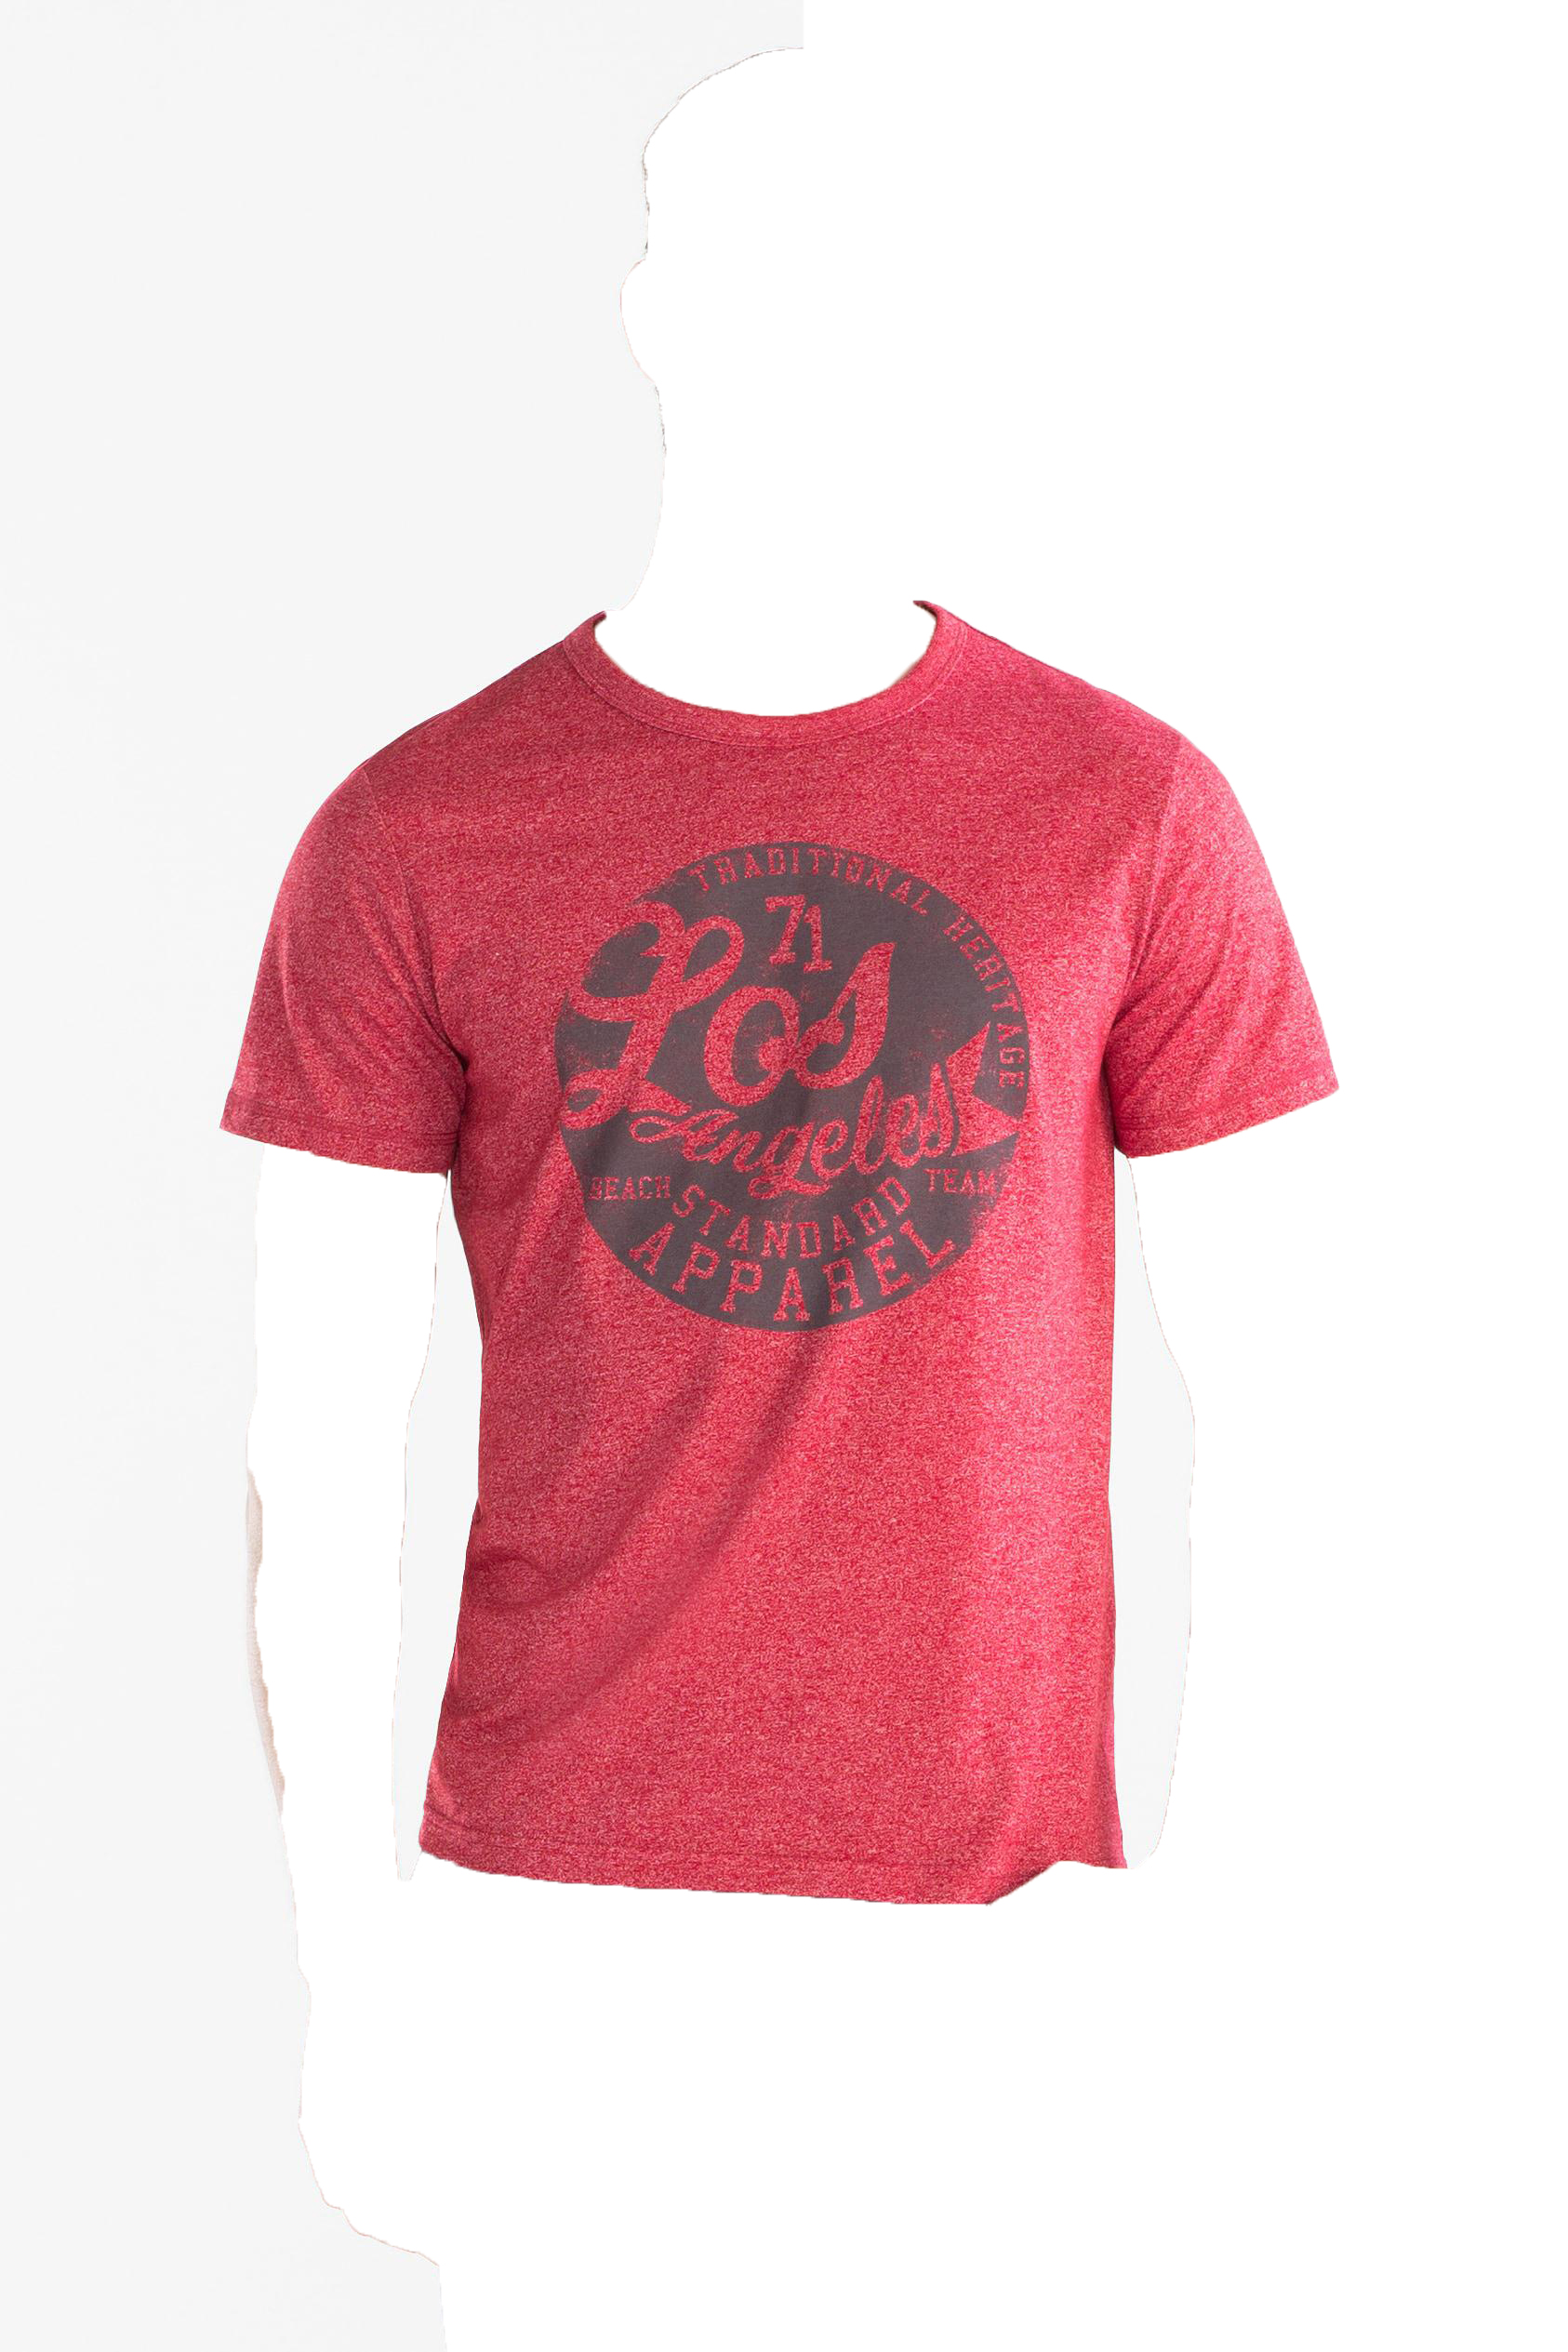teeshirt: (182, 588, 1344, 1923)
